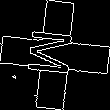M_E: (27, 30, 83, 80)
